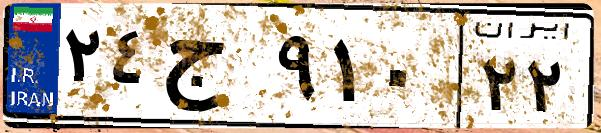0: (385, 28, 445, 110)
1: (330, 28, 385, 110)
2: (57, 26, 110, 100), (475, 38, 525, 113), (525, 38, 570, 115)
4: (110, 28, 158, 98)
9: (270, 28, 330, 110)
ج: (158, 20, 270, 120)
